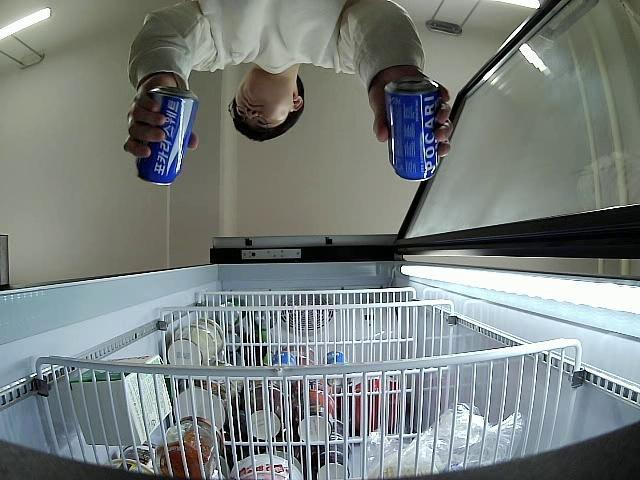13_pocariSweat: (383, 76, 442, 184), (136, 86, 198, 187)
